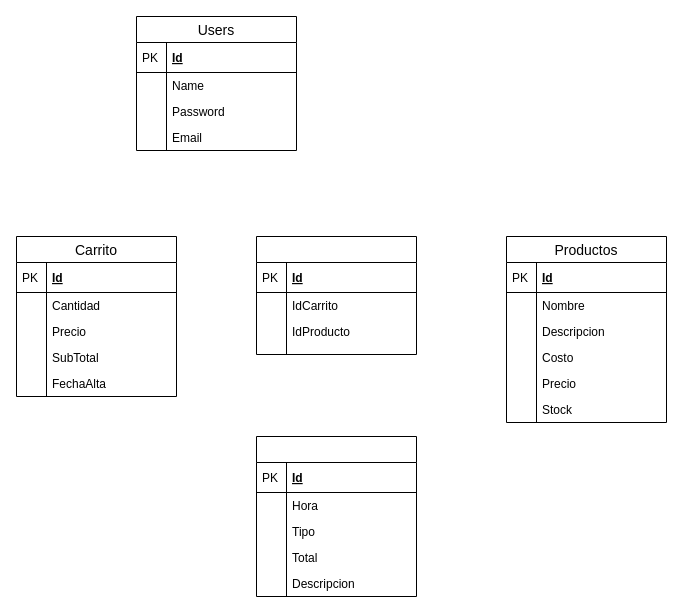
The diagram is 683 pixels wide and 613 high, and some of its shapes have lost their labels. The box of each missing label's shape, as (x1, y1, x2, y2) in pixels:
Caja: (256, 436, 416, 596)
CarritoProducto: (256, 236, 416, 354)
